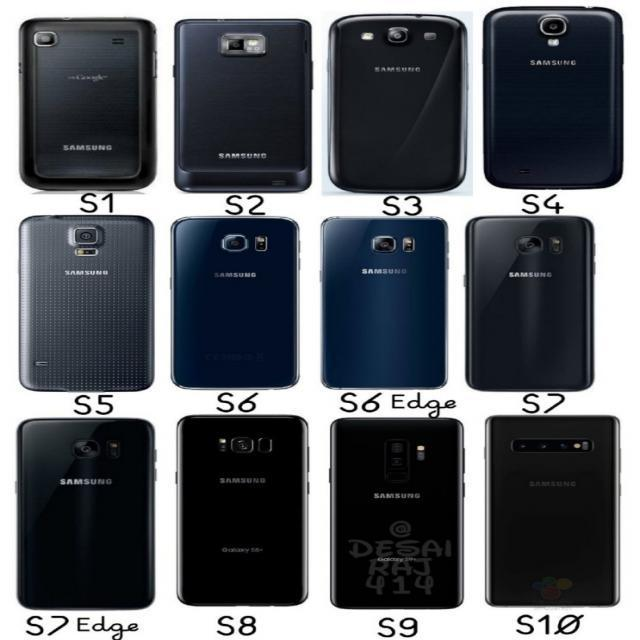phone: (15, 418, 157, 611), (483, 414, 622, 607), (328, 417, 466, 609), (482, 6, 625, 190), (326, 13, 468, 195), (176, 414, 310, 606), (18, 214, 156, 392), (18, 17, 157, 192), (173, 19, 313, 192), (463, 215, 596, 392), (171, 214, 301, 390), (318, 216, 449, 390)
